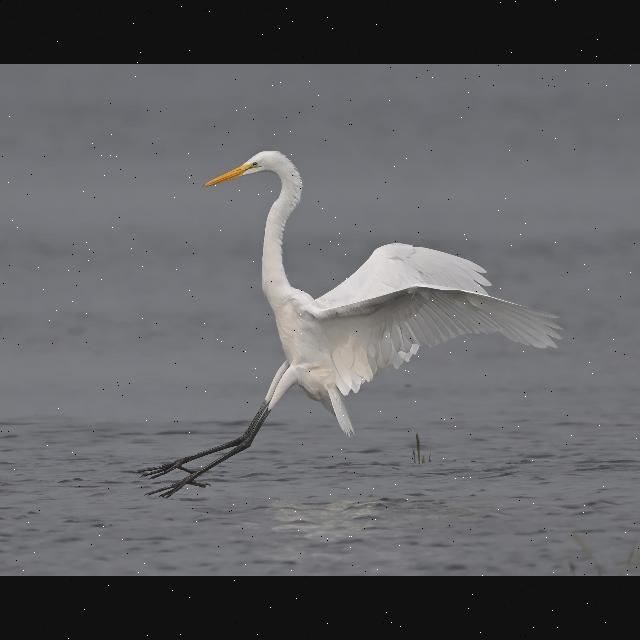egret: (116, 140, 564, 502)
